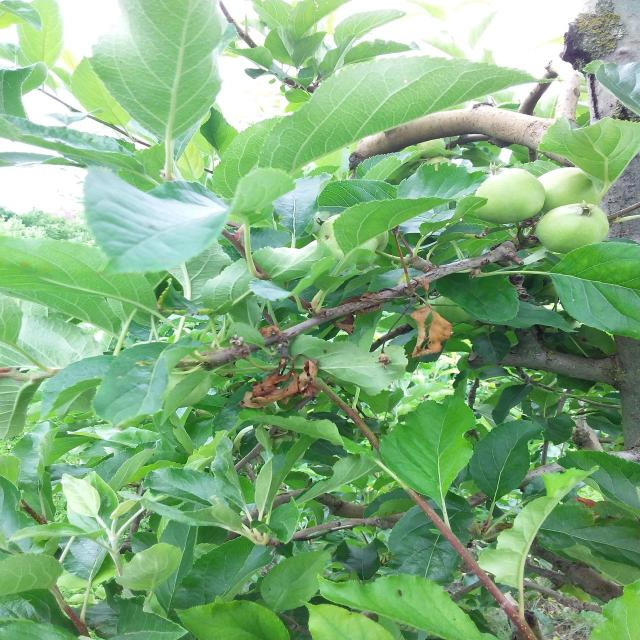-FireBlight-: (238, 352, 319, 409), (401, 288, 451, 357), (257, 325, 281, 339)
